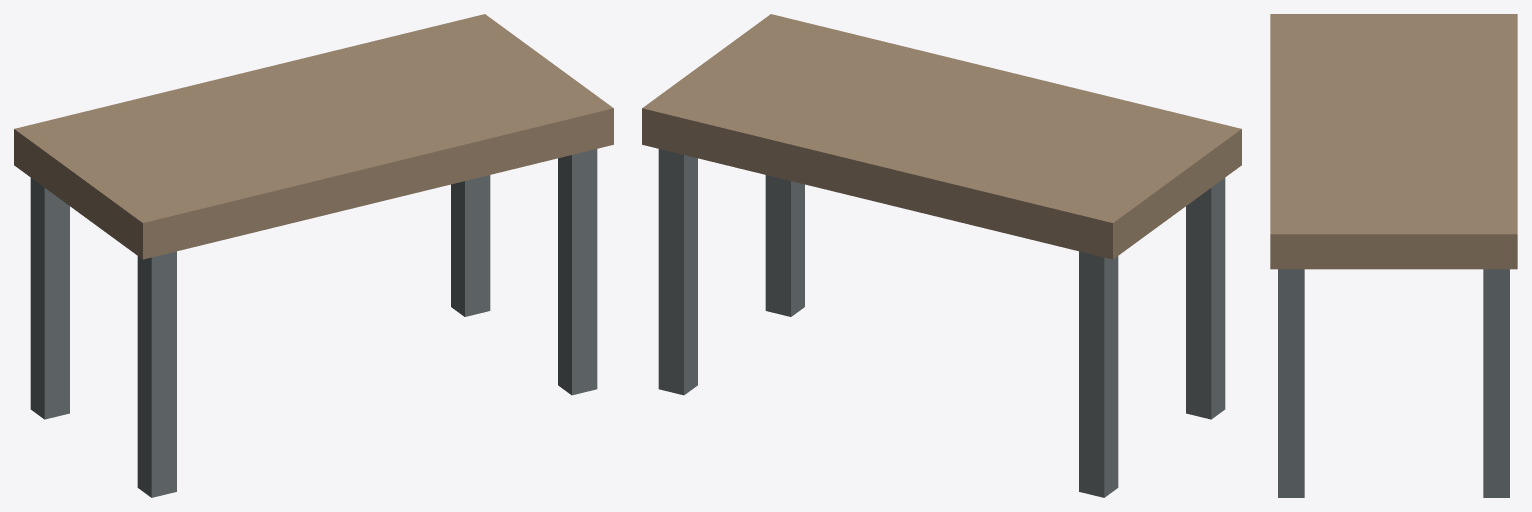
File: iz2_pharmacy_compound_bench.glb
The picture shows the model from 3 angles, left to right: view 1: azimuth 30°, elevation 25°; view 2: azimuth 150°, elevation 25°; view 3: azimuth 270°, elevation 25°; orthographic projection. The views are drawn at different scales.
Visible parts, largest first — view 1: body; view 2: body; view 3: body.
Part boxes in pixels (bbox=[...]): body: bbox=[14, 14, 613, 497]; body: bbox=[642, 14, 1241, 497]; body: bbox=[1270, 14, 1517, 497].
Bounding box in the file's own units: 1.35 × 0.7681 × 0.6386.
